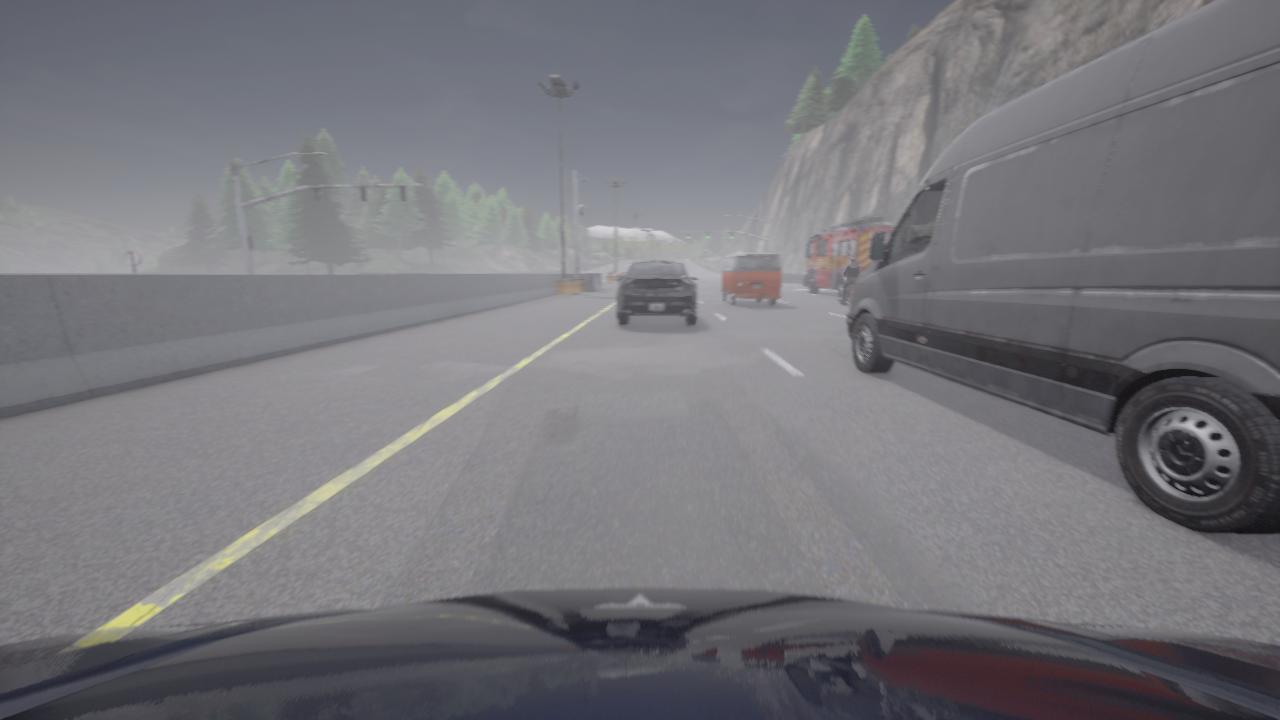cyclist: (847, 0, 1279, 534), (0, 588, 1279, 719), (803, 216, 893, 296), (617, 260, 698, 325), (719, 252, 780, 305), (839, 276, 854, 304)
